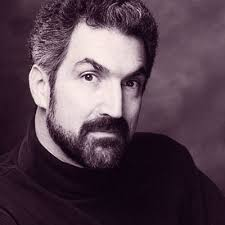middle_eastern_male: (47, 11, 154, 154)
